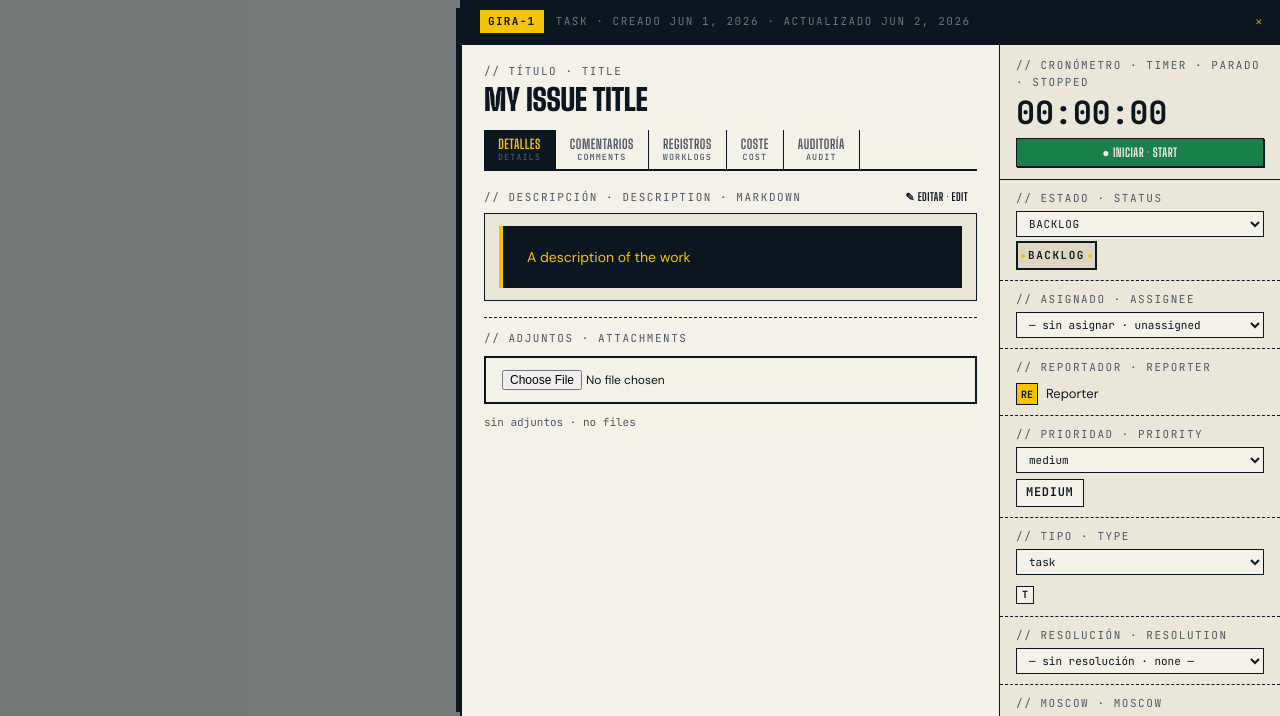
Test case: IssueDrawer › renders existing comments including the internal-only badge
Expected: the heading "My issue title" is shown, [484,81,648,117]
Click the text "Comentarios".
click(602, 144)  # box [570,138,634,151]
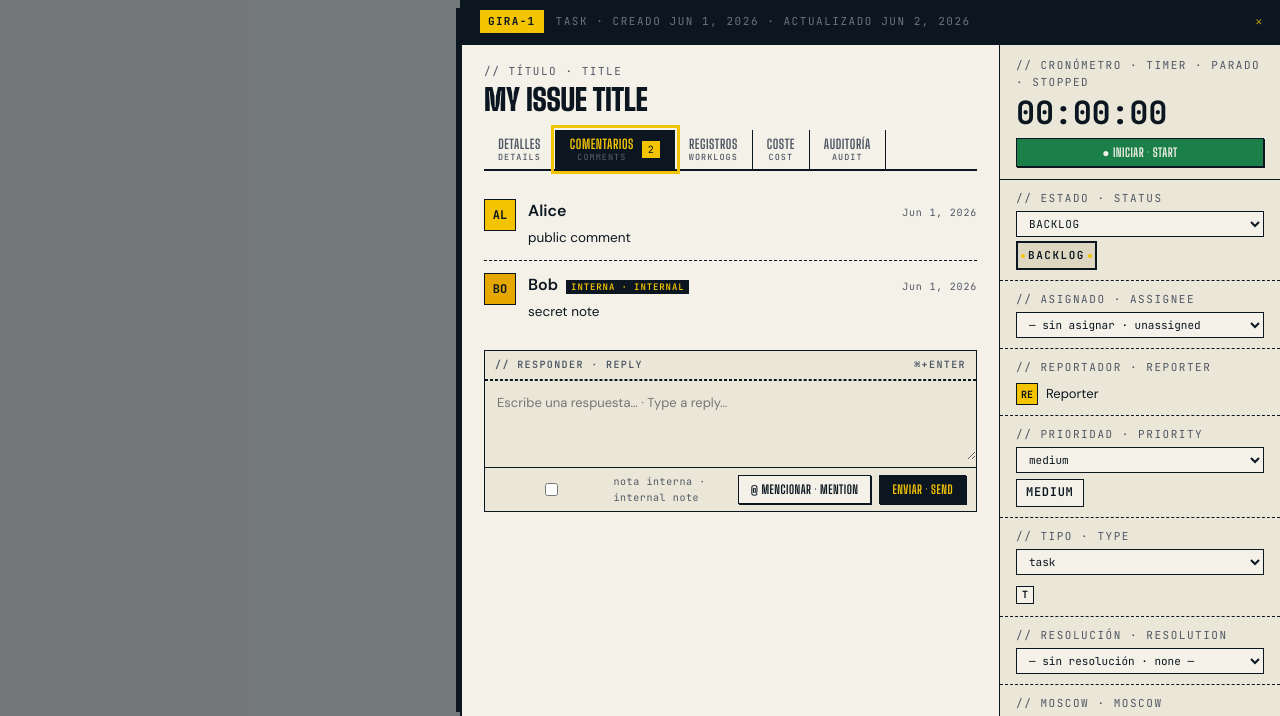
Now the text "public comment" is shown, box [528,229,631,246]
Now the text "secret note" is shown, box [528,303,600,320]
Now the text titled "Staff-only" is shown, box [566,280,690,294]
